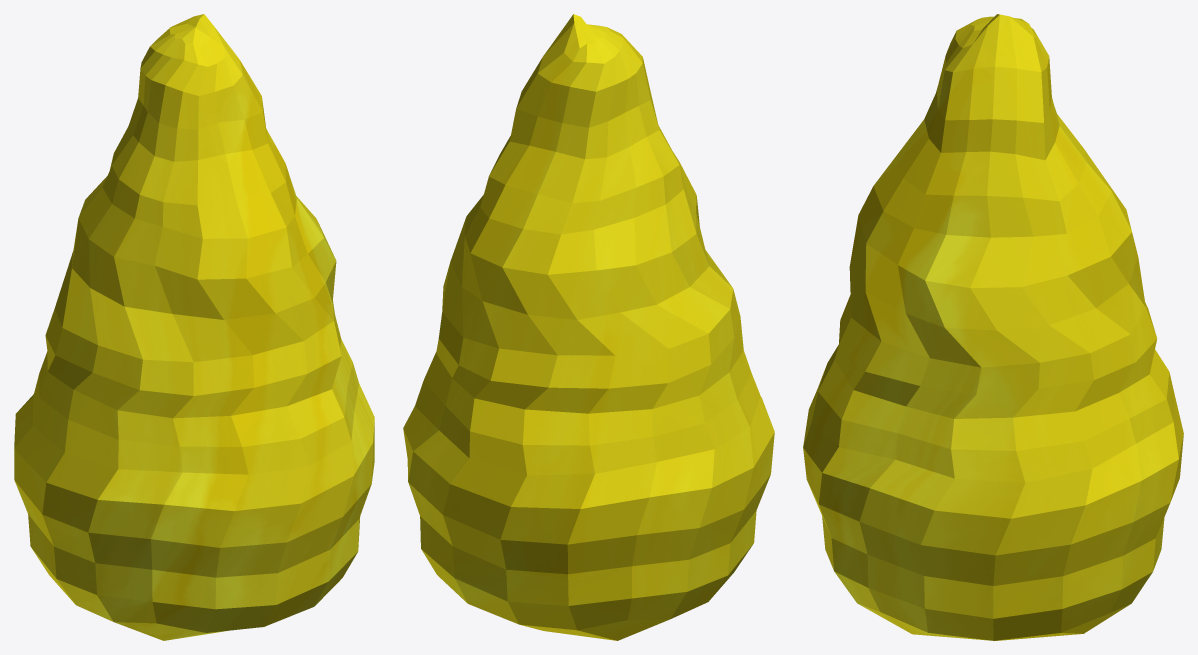
File: Tree_B.fbx
The picture shows the model from 3 angles, left to right: view 1: azimuth 30°, elevation 25°; view 2: azimuth 150°, elevation 25°; view 3: azimuth 270°, elevation 25°; orthographic projection. The views are drawn at different scales.
Parts seen in each view (by area): view 1: TreeConif_A; view 2: TreeConif_A; view 3: TreeConif_A.
Part boxes in pixels (x1,y1,x2,y2): TreeConif_A: (14, 14, 374, 640); TreeConif_A: (403, 14, 774, 640); TreeConif_A: (803, 14, 1183, 640).
Size of the model in its own units: 1492 by 2660 by 1531.
